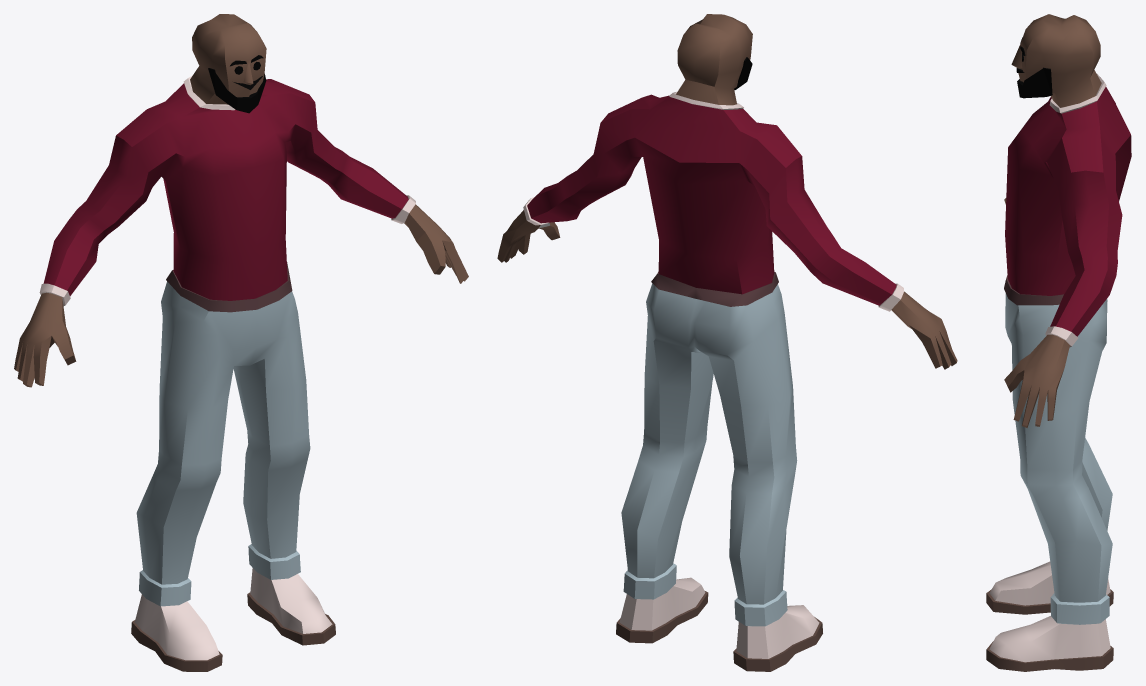
The model's file is char3.fbx.
3 renders of one model, left to right at view 1: azimuth 30°, elevation 25°; view 2: azimuth 150°, elevation 25°; view 3: azimuth 270°, elevation 25°, orthographic.
Parts seen in each view (by area): view 1: lowPolyCharacterFace4; view 2: lowPolyCharacterFace4; view 3: lowPolyCharacterFace4.
Boxes of the visible parts, x1,y1,x2,y2 form: lowPolyCharacterFace4: (14,14,468,671); lowPolyCharacterFace4: (497,14,957,671); lowPolyCharacterFace4: (986,14,1131,671).
Bounding box in the file's own units: 139 × 183 × 39.22.
